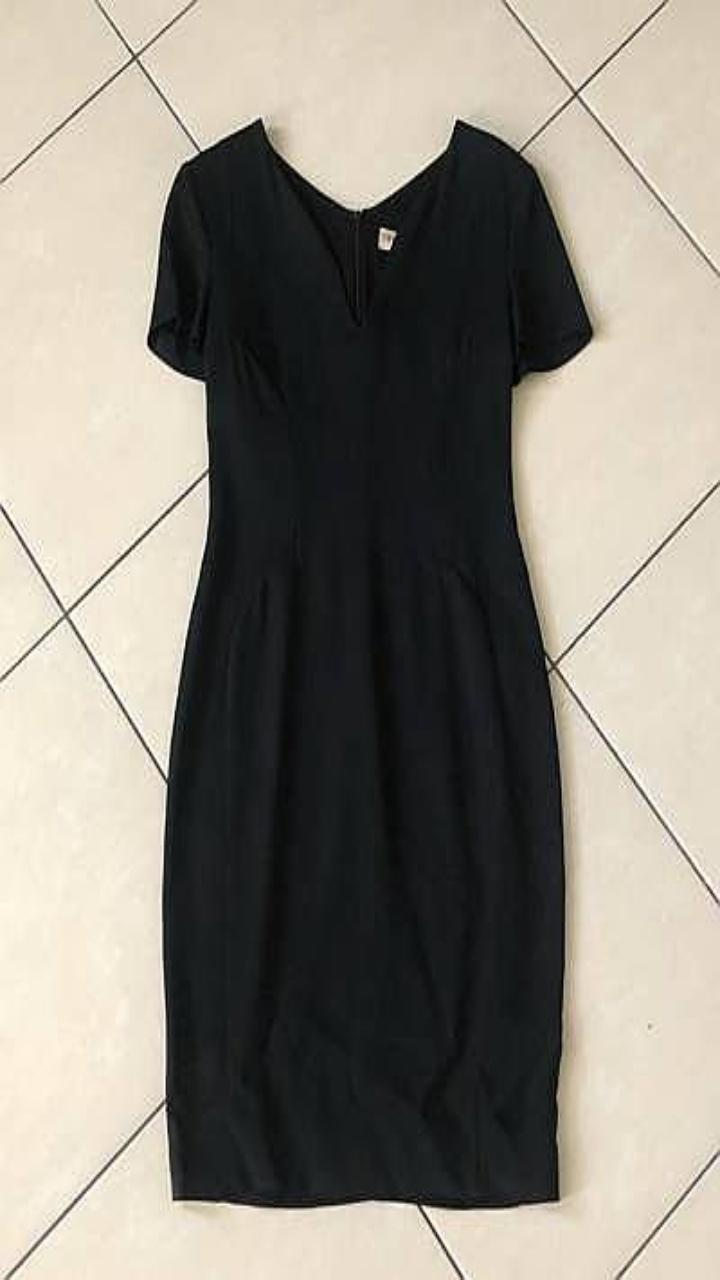Dresses: (147, 118, 592, 1206)
